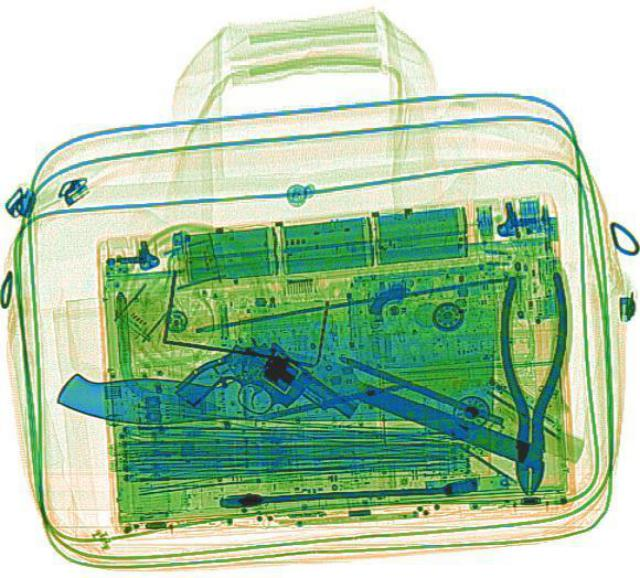Gun: (170, 319, 360, 474)
Knife: (240, 329, 534, 462), (57, 371, 456, 420)
Pliers: (494, 271, 566, 493)
